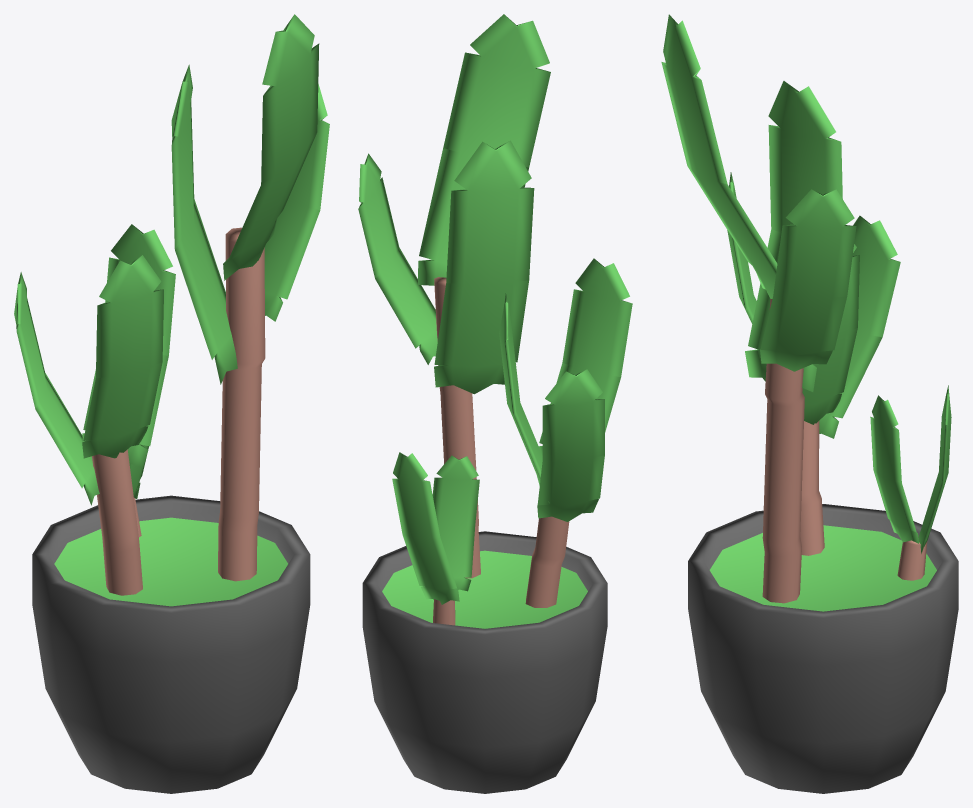
The model's file is plant_b_01.glb.
3 views of the same model, side by side, from view 1: azimuth 30°, elevation 25°; view 2: azimuth 150°, elevation 25°; view 3: azimuth 270°, elevation 25° (orthographic). The views are drawn at different scales.
Parts seen in each view (by area): view 1: mesh_plant_b_01; view 2: mesh_plant_b_01; view 3: mesh_plant_b_01.
Boxes of the visible parts, x1=… form: mesh_plant_b_01: x1=14, y1=14, x2=329, y2=793; mesh_plant_b_01: x1=358, y1=14, x2=632, y2=793; mesh_plant_b_01: x1=661, y1=14, x2=958, y2=793.
Size of the model in its own units: 0.8556 by 2.25 by 0.7972.
